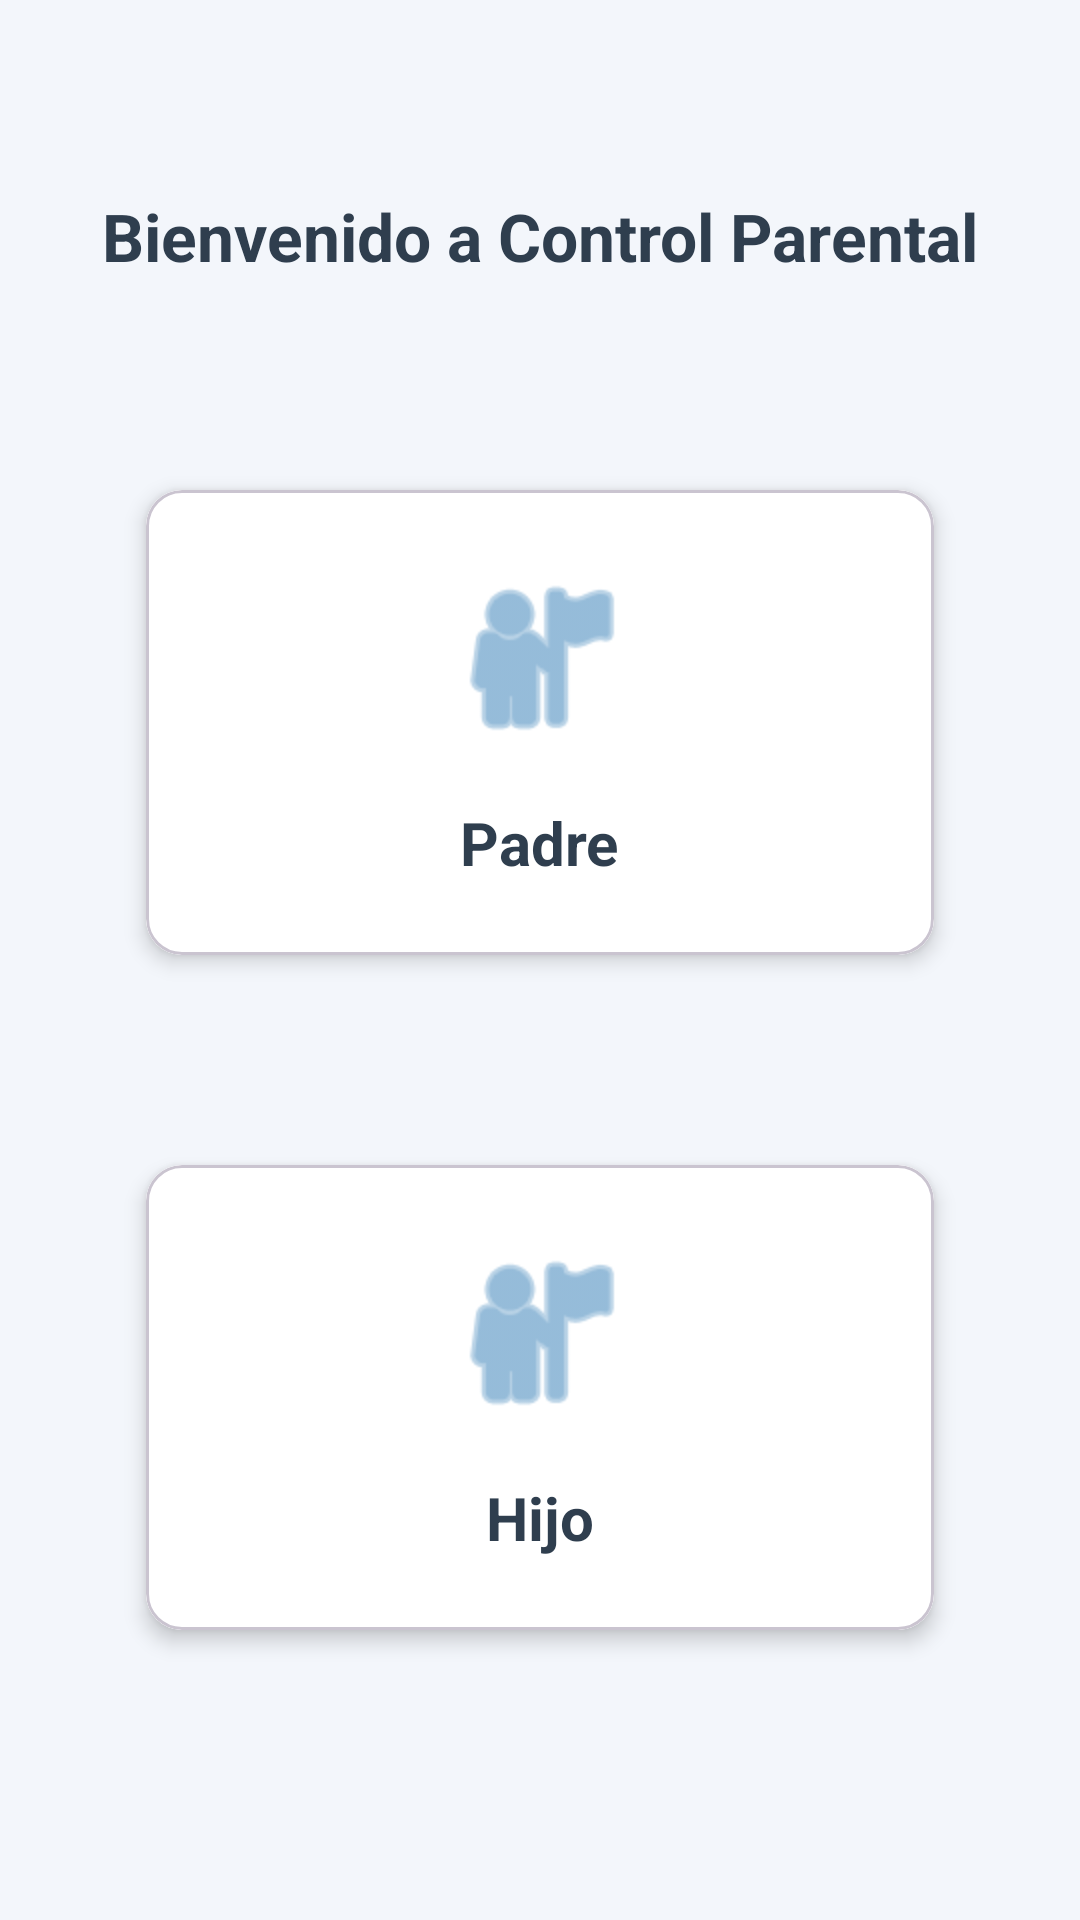

Named icons in this screenshot (1080w x 1920h) and their bounding boxes, (x1, y1, x2, y2):
myplaces: (470, 587, 614, 729), (470, 1262, 614, 1404)
